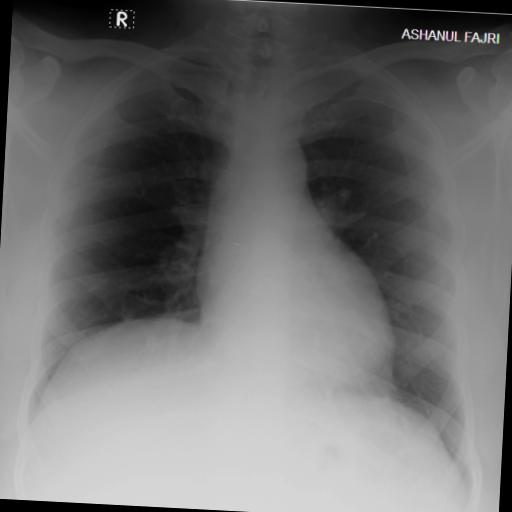kardiomegali: (3, 11, 506, 495)
